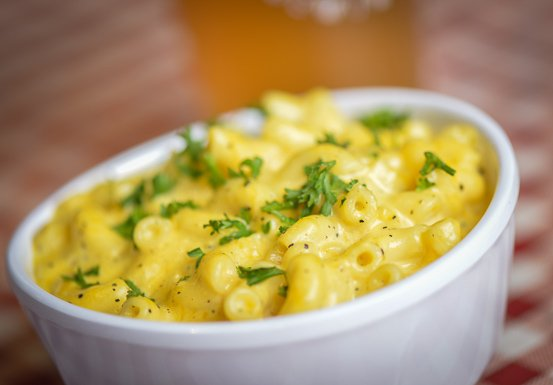curry: (260, 160, 358, 231), (416, 151, 457, 190)
sushi: (15, 82, 519, 376)
